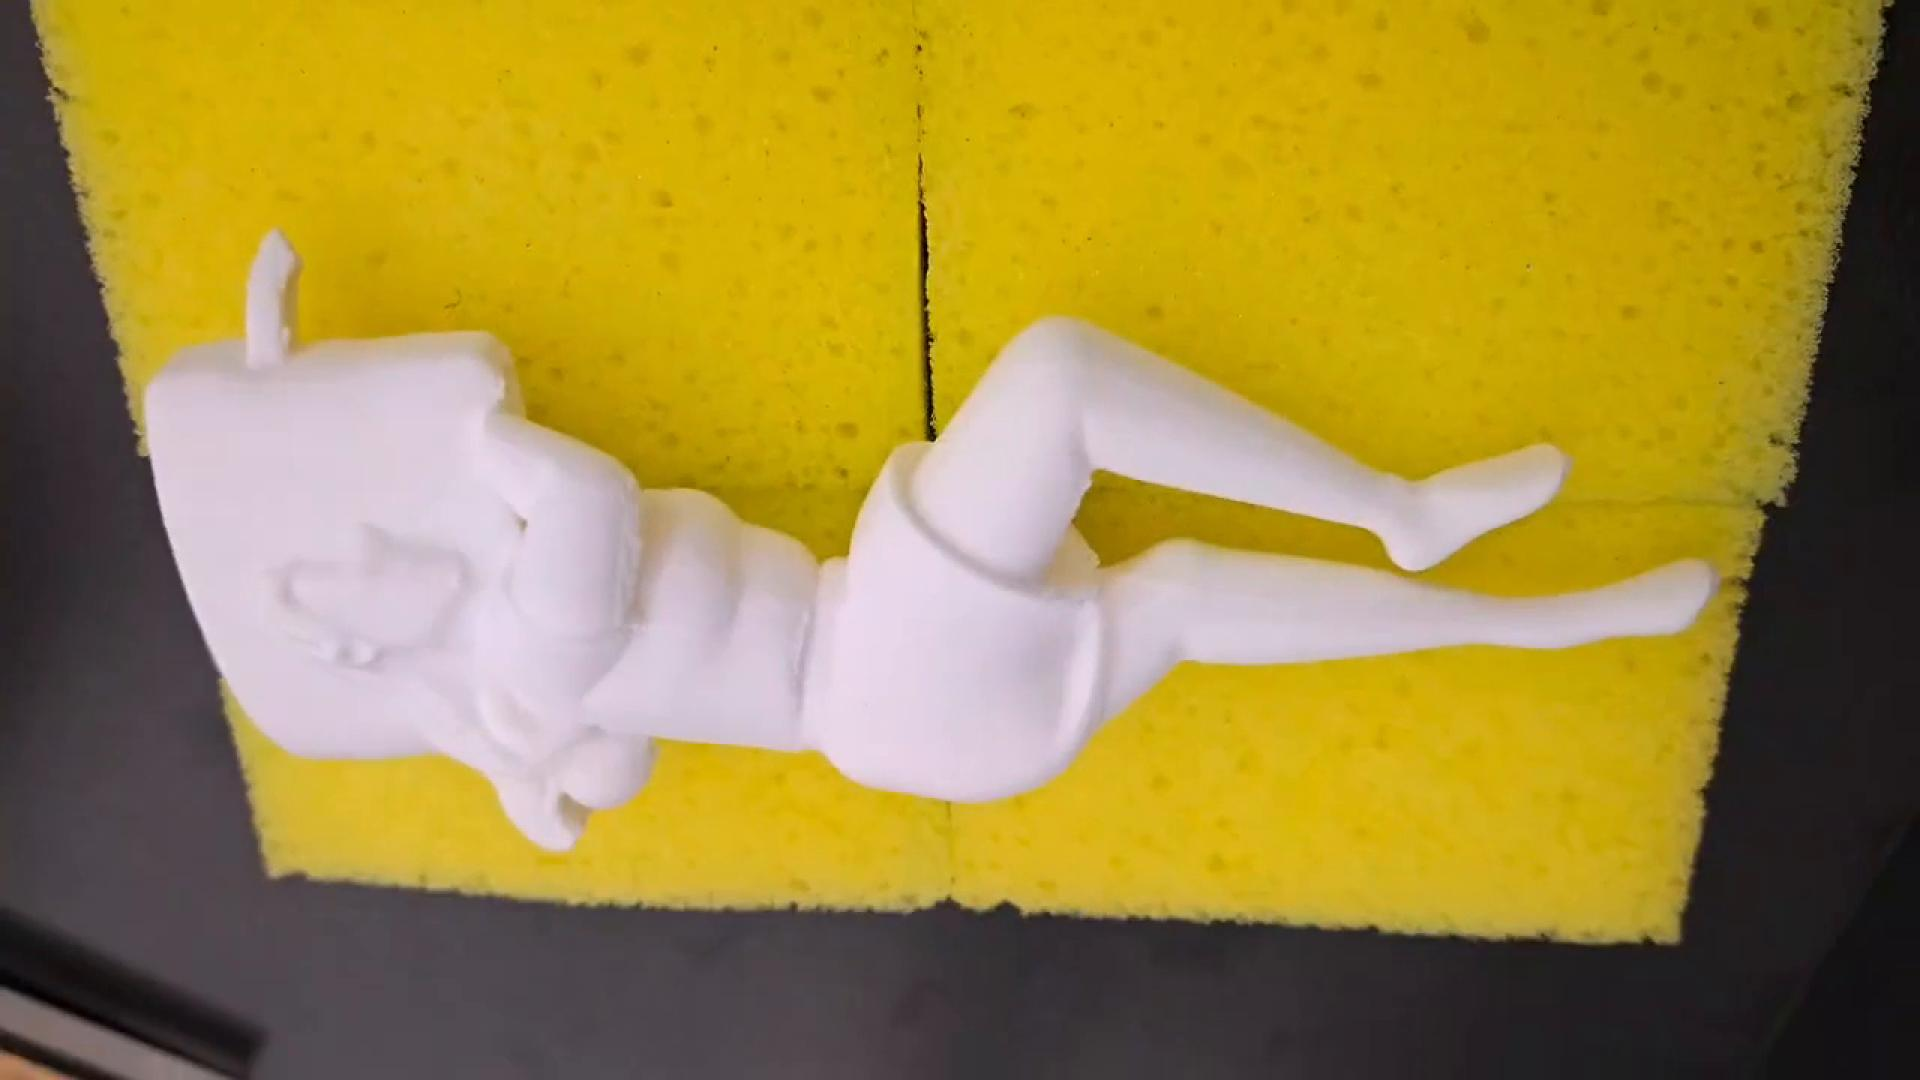Good-style: (131, 224, 1729, 853)
